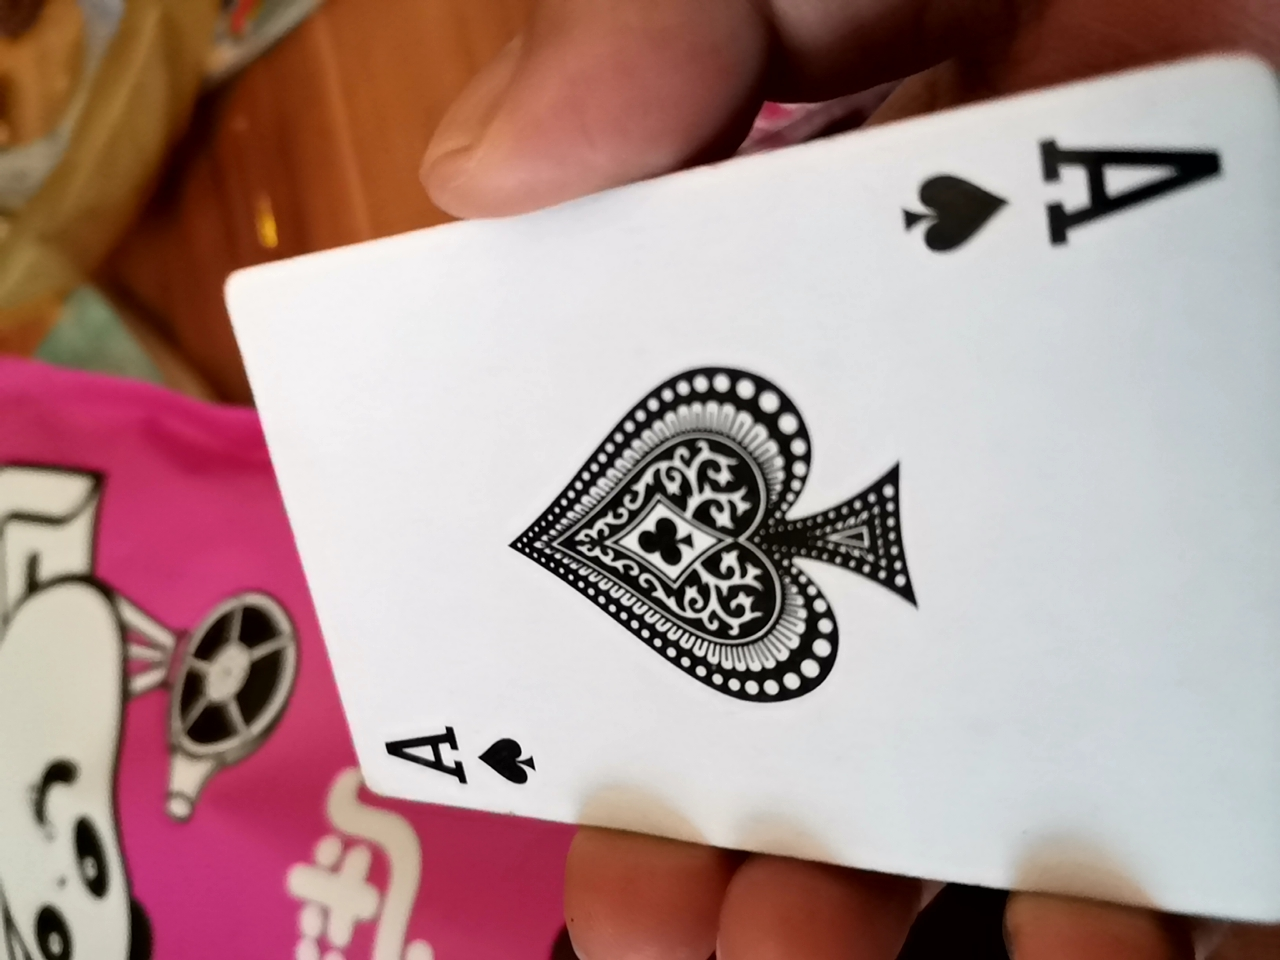ht a: (223, 59, 1267, 952)
